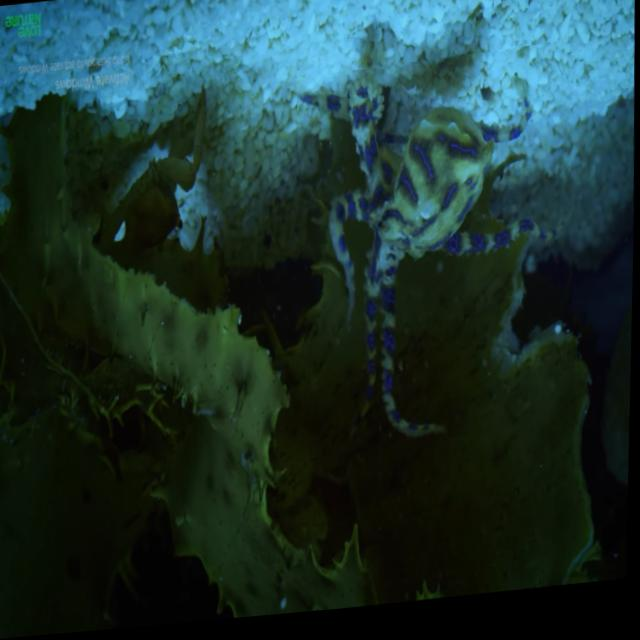blue_ringed_octopus: (293, 52, 580, 462)
